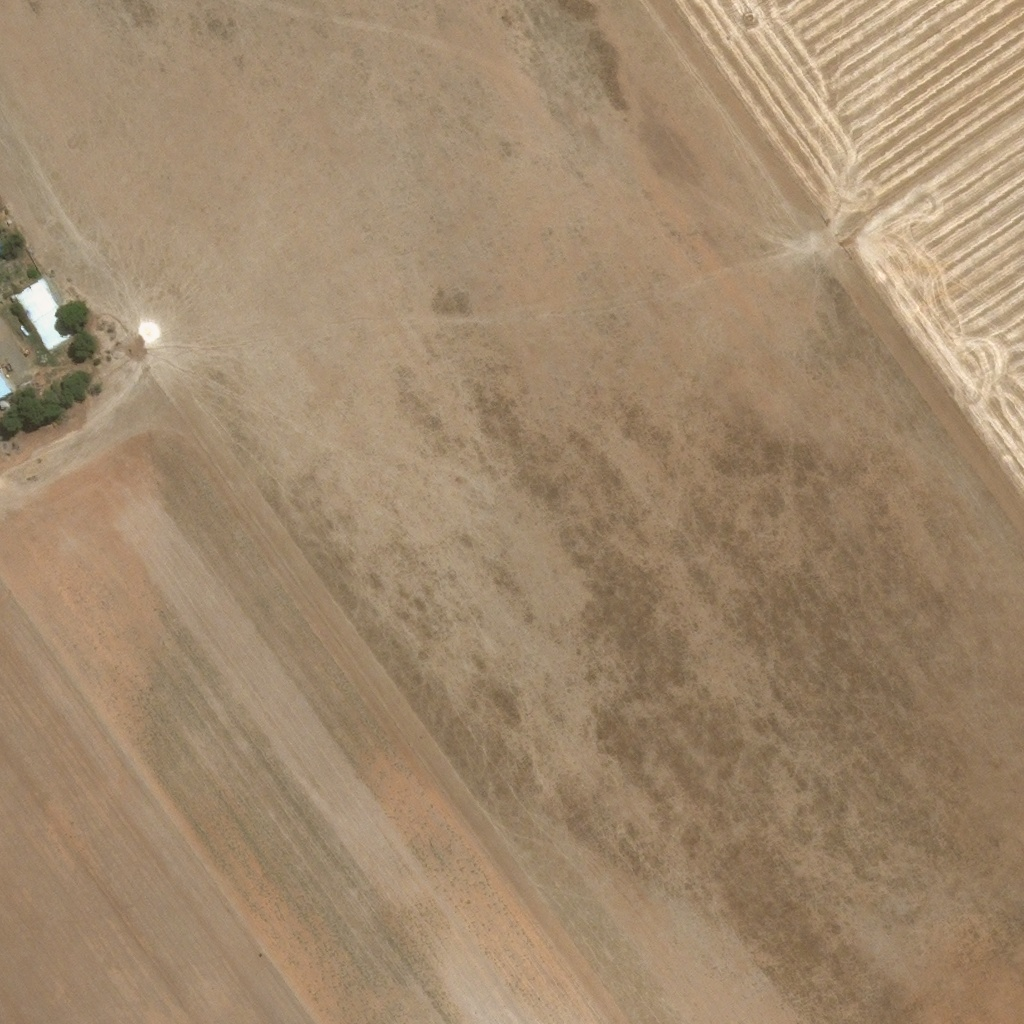0 no-damage: (12, 281, 76, 353), (0, 401, 7, 410)
3 destroyed: (23, 345, 35, 357)
4 un-classified: (0, 375, 11, 398)
